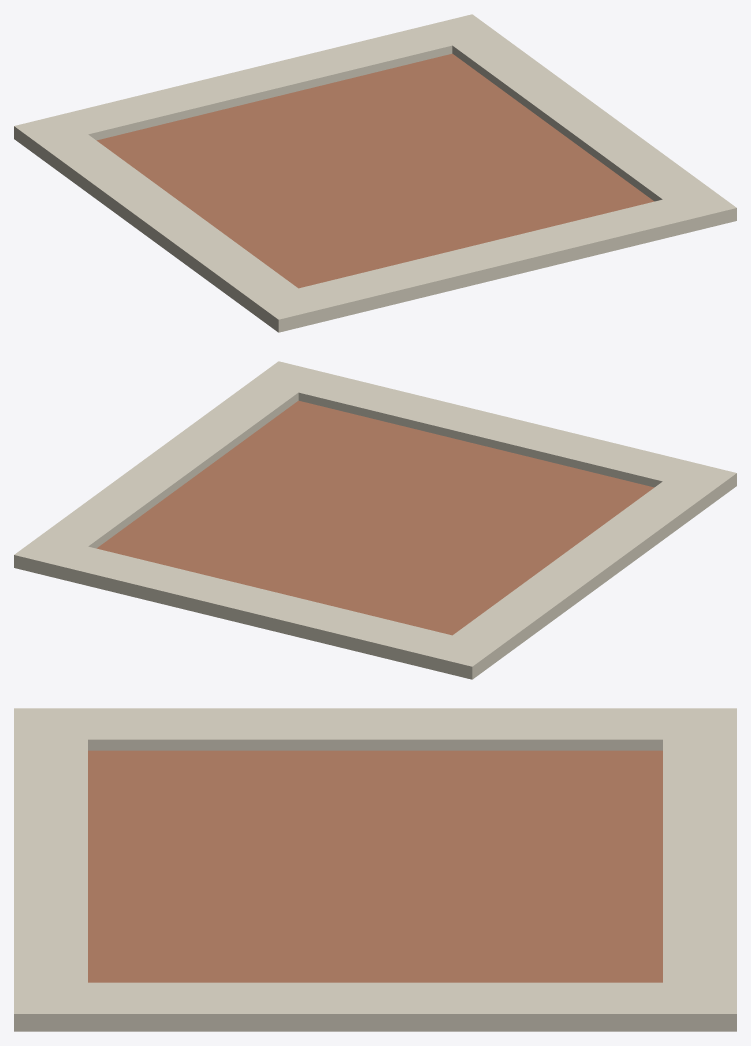
The model's file is Treebase.fbx.
The picture shows the model from 3 angles, top to bottom: view 1: azimuth 30°, elevation 25°; view 2: azimuth 150°, elevation 25°; view 3: azimuth 270°, elevation 25°; orthographic projection. The views are drawn at different scales.
Visible parts, largest first — view 1: GroundTree; view 2: GroundTree; view 3: GroundTree.
Part boxes in pixels (box(x1,y1,x2,y2)): GroundTree: box(14, 14, 736, 332); GroundTree: box(14, 361, 736, 679); GroundTree: box(14, 708, 736, 1031).
Bounding box in the file's own units: 216 × 5.87 × 216.
